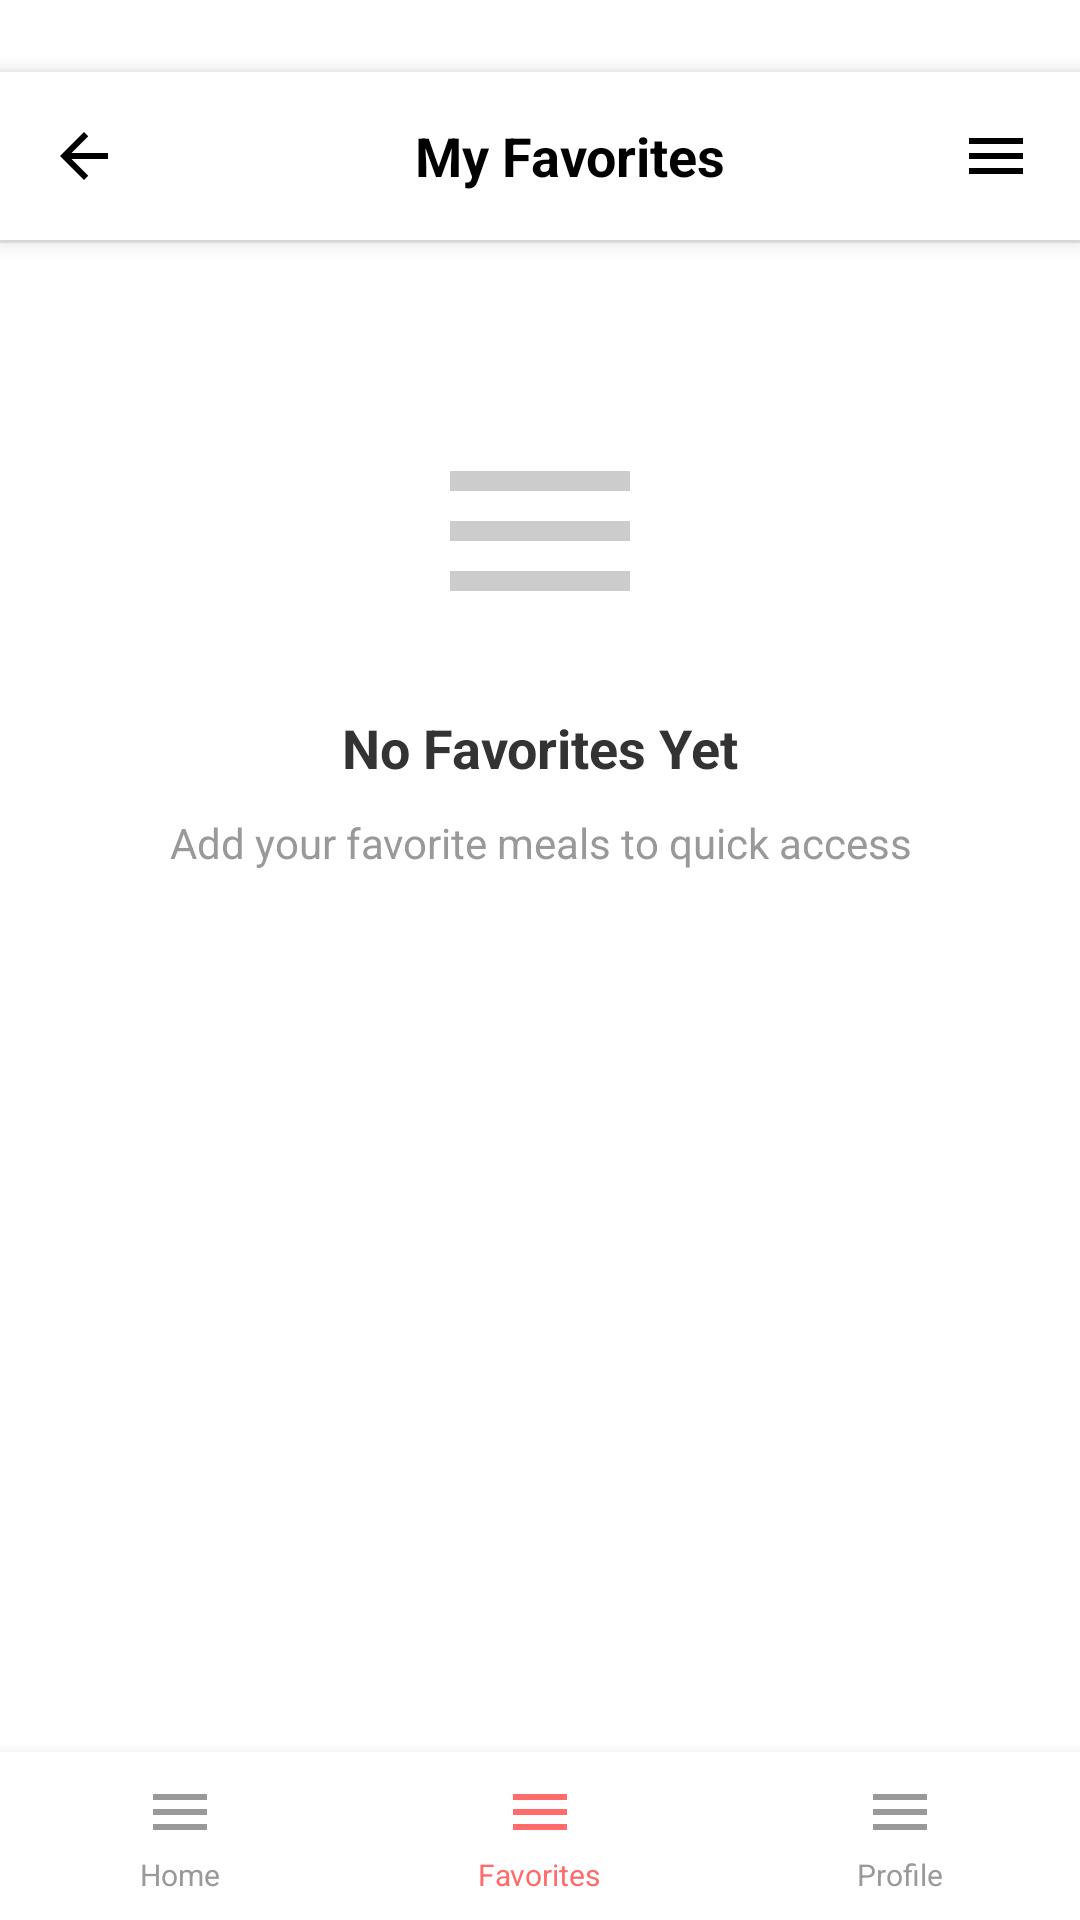

Locate icon controls on the screen. Image size 1080 x 1920, boxes as {"left": x1, "top": y1, "right": x2, "bottom": y2}.
Back: {"left": 60, "top": 132, "right": 108, "bottom": 180}
Menu: {"left": 969, "top": 138, "right": 1023, "bottom": 174}
